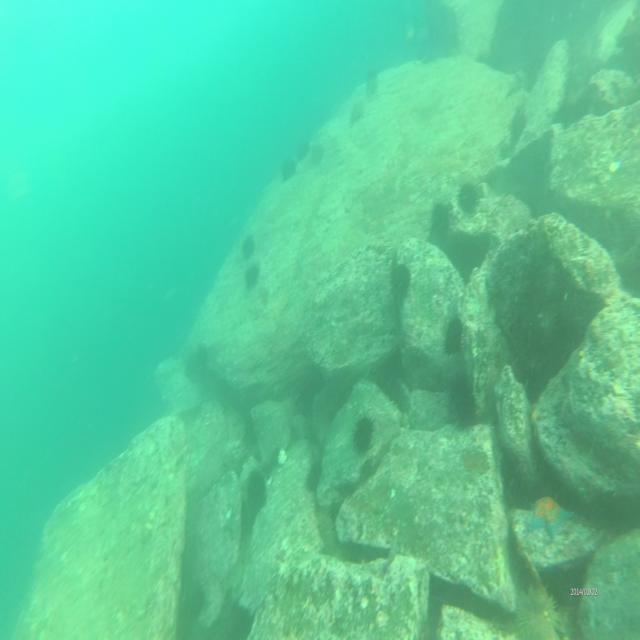echinus: (514, 580, 564, 640), (448, 369, 479, 430), (352, 415, 376, 456), (245, 469, 268, 509), (446, 312, 465, 358), (390, 261, 412, 295), (433, 198, 451, 238), (458, 179, 478, 214), (244, 261, 260, 292), (240, 234, 258, 260), (365, 68, 378, 99), (280, 155, 296, 180), (350, 101, 366, 122), (296, 137, 309, 159), (312, 144, 324, 164)
starfish: (526, 487, 573, 544)
